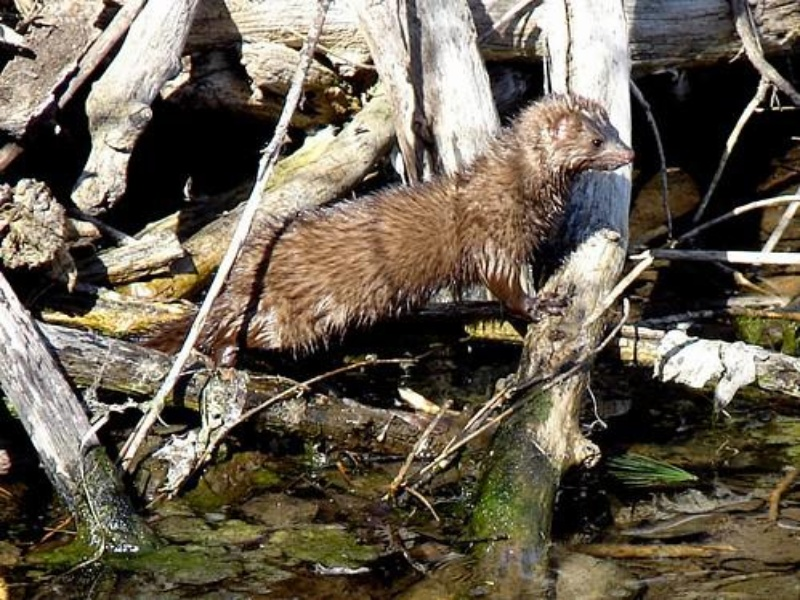minkish: (126, 91, 637, 367)
